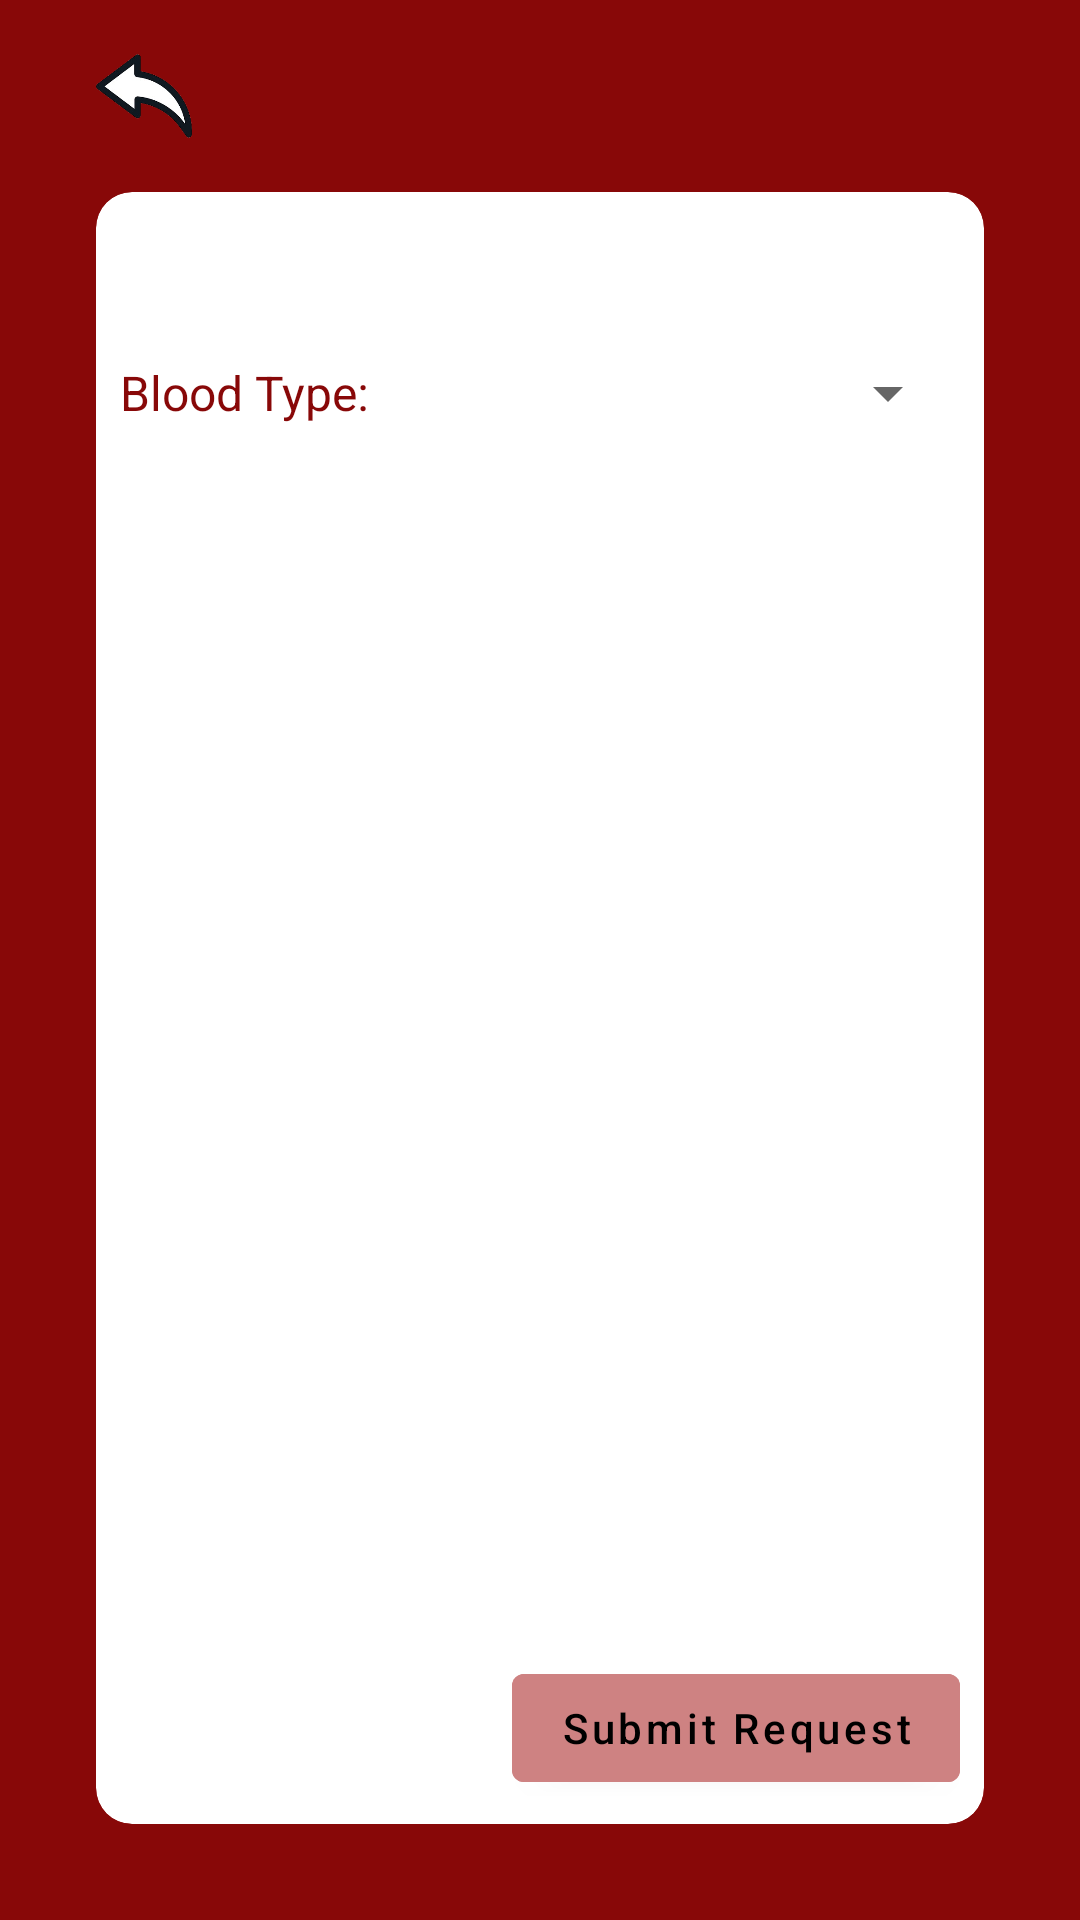

Screen size 1080w x 1920h. Icon name, then its center in pixels as [x,y]:
back: [144,96]
